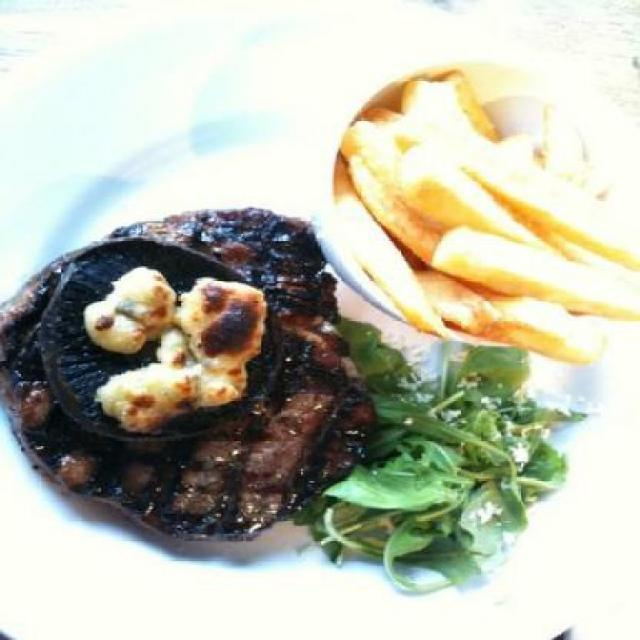Steak: (5, 186, 367, 552)
